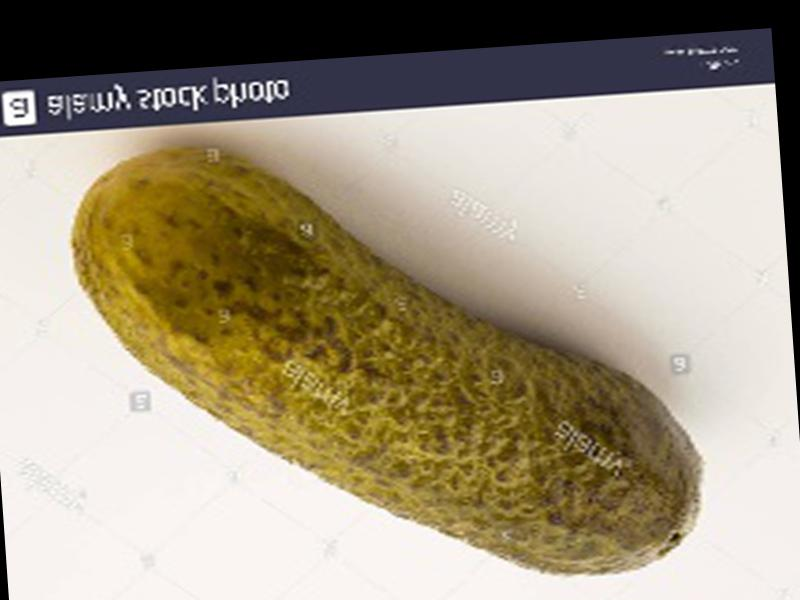Cucumber: (63, 116, 706, 600)
